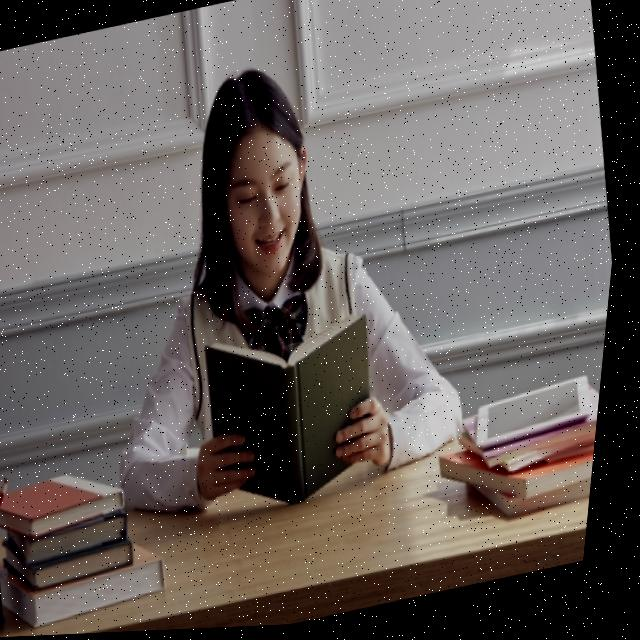studying-person: (59, 13, 520, 575)
